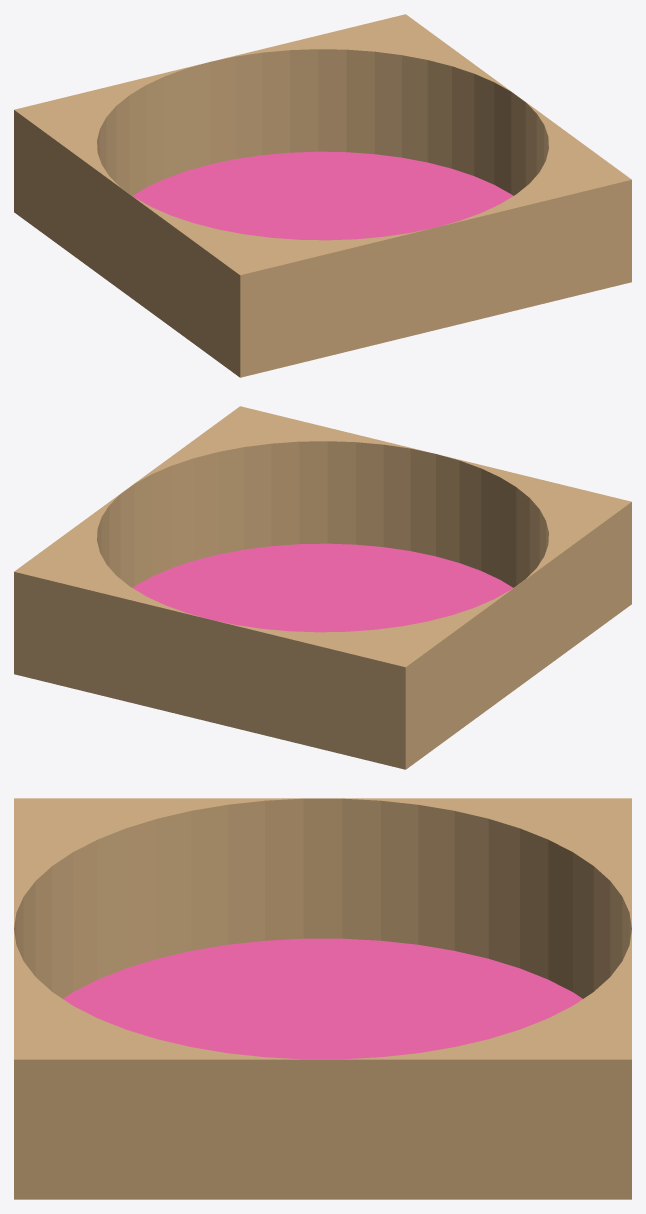
The model's file is circle_mold_pink.gltf.
The picture shows the model from 3 angles, top to bottom: view 1: azimuth 30°, elevation 25°; view 2: azimuth 150°, elevation 25°; view 3: azimuth 270°, elevation 25°; orthographic projection. The views are drawn at different scales.
Visible parts, largest first — view 1: Mold, Base; view 2: Mold, Base; view 3: Mold, Base.
Part boxes in pixels (<box>): Mold: <box>14,14,631,377</box>; Base: <box>133,151,512,240</box>; Mold: <box>14,406,631,769</box>; Base: <box>133,543,512,632</box>; Mold: <box>14,798,631,1199</box>; Base: <box>63,938,582,1059</box>.
Size of the model in its own units: 0.2 by 0.05 by 0.2.
